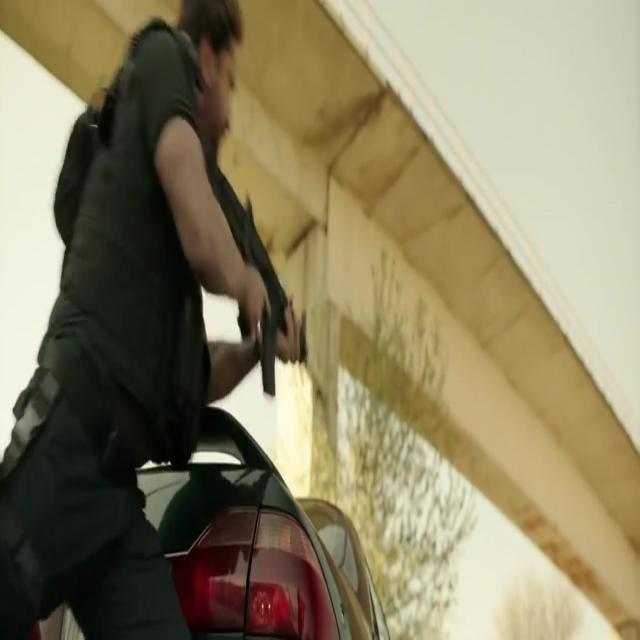Weapon: (206, 153, 324, 402)
